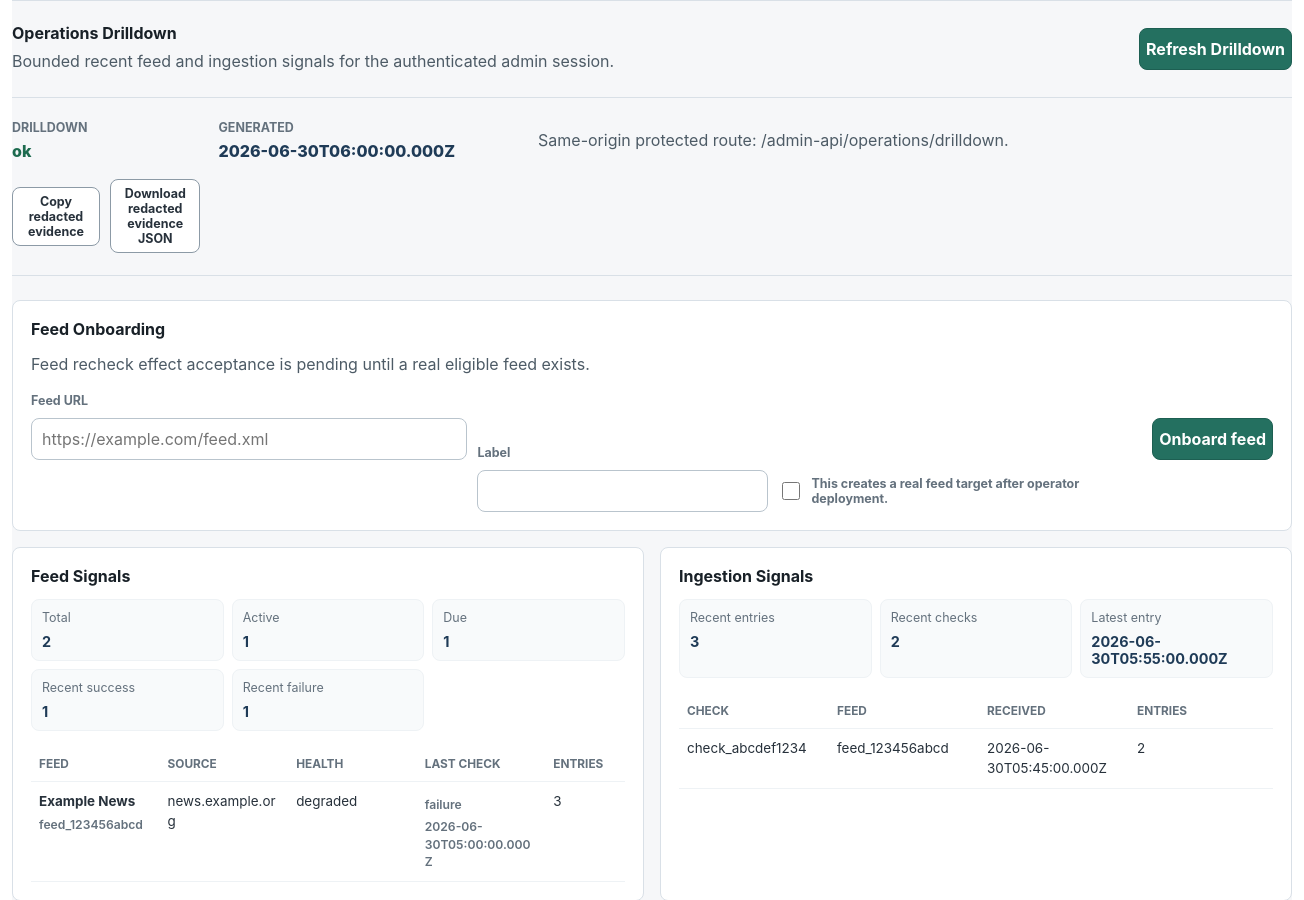
it: OperationsDrilldown › downloads redacted browser evidence JSON without exposing raw action metadata
The width and height of the screenshot is (1304, 900).
Click the button "Download redacted evidence JSON" at (155, 216), box x1=110 y1=179 x2=200 y2=253
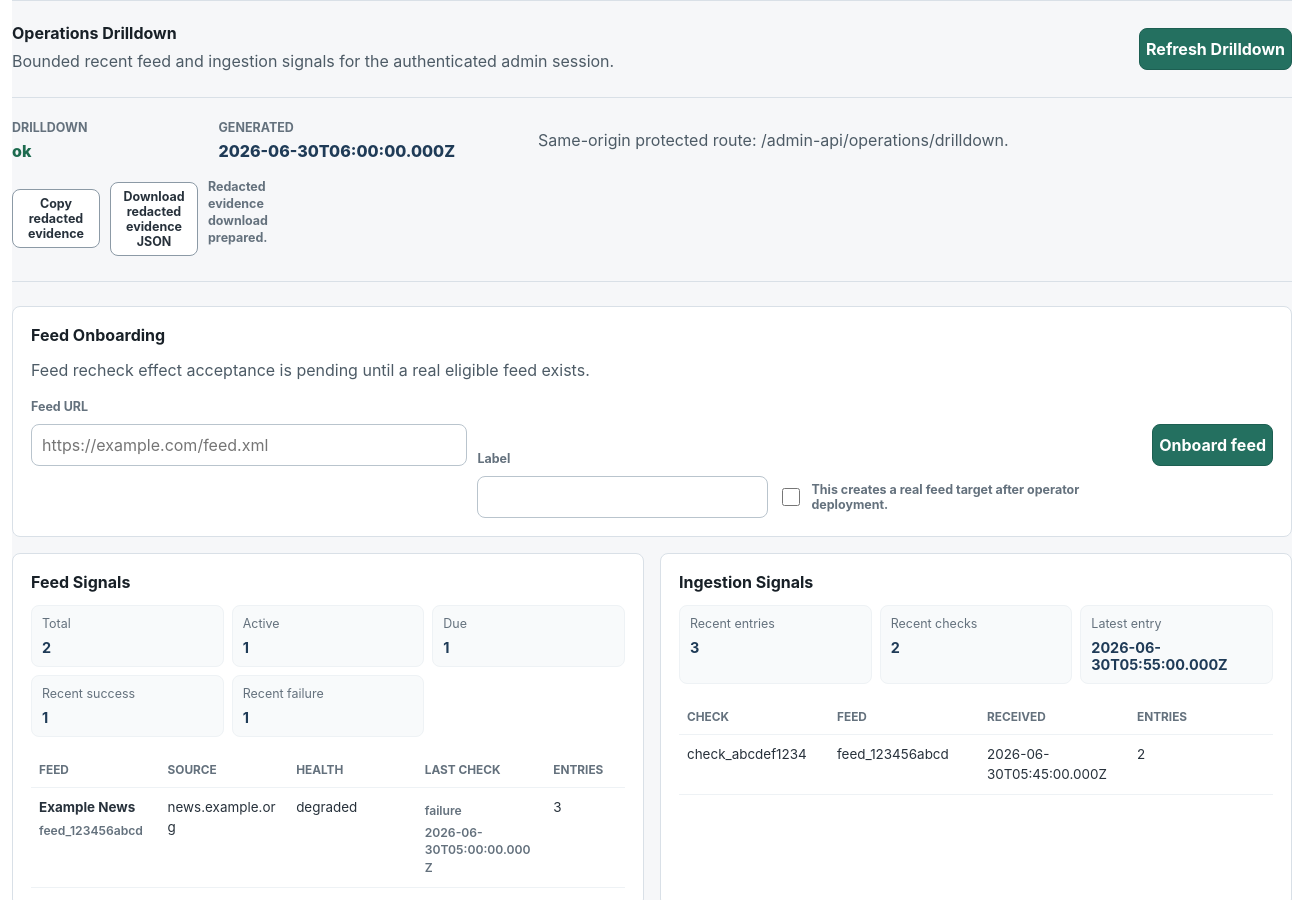
Check: the text "Redacted evidence download prepared." is shown, box x1=208 y1=179 x2=268 y2=246
